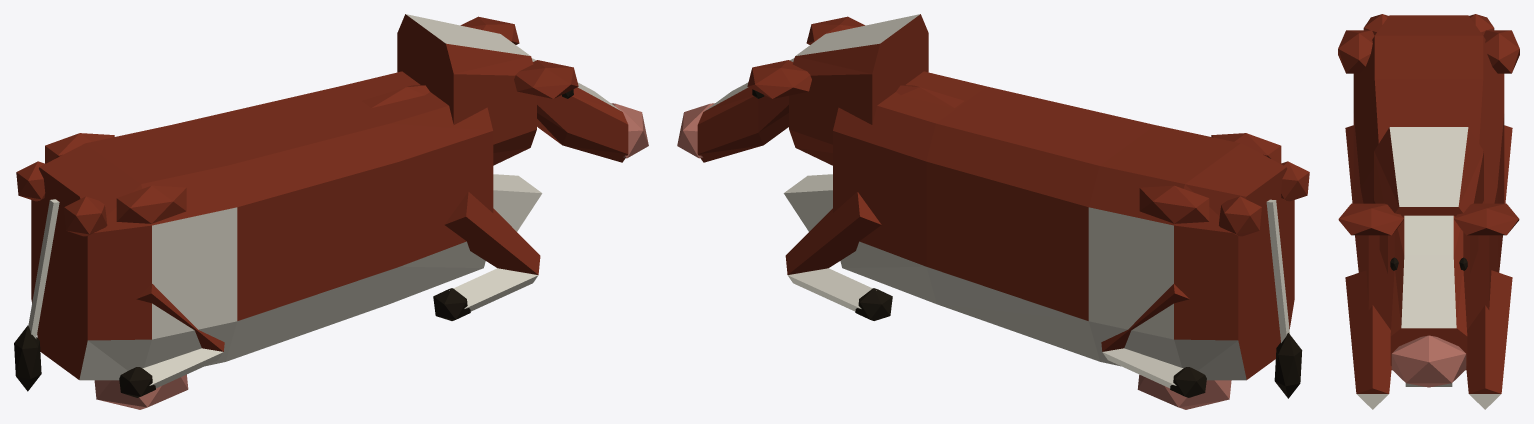
The model's file is cow_lying.glb.
3 renders of one model, left to right at view 1: azimuth 30°, elevation 25°; view 2: azimuth 150°, elevation 25°; view 3: azimuth 270°, elevation 25°, orthographic. The views are drawn at different scales.
Visible parts, largest first — view 1: cow_lying; view 2: cow_lying; view 3: cow_lying.
Part boxes in pixels (x1=…): cow_lying: x1=14, y1=14, x2=648, y2=409; cow_lying: x1=677, y1=14, x2=1309, y2=409; cow_lying: x1=1338, y1=14, x2=1519, y2=409.
Bounding box in the file's own units: 2.55 × 1.22 × 0.6632.
